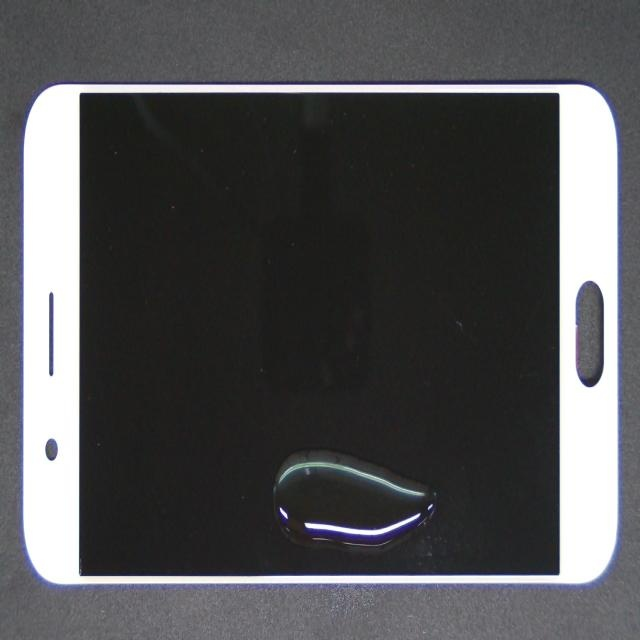oil: (260, 274, 616, 640)
